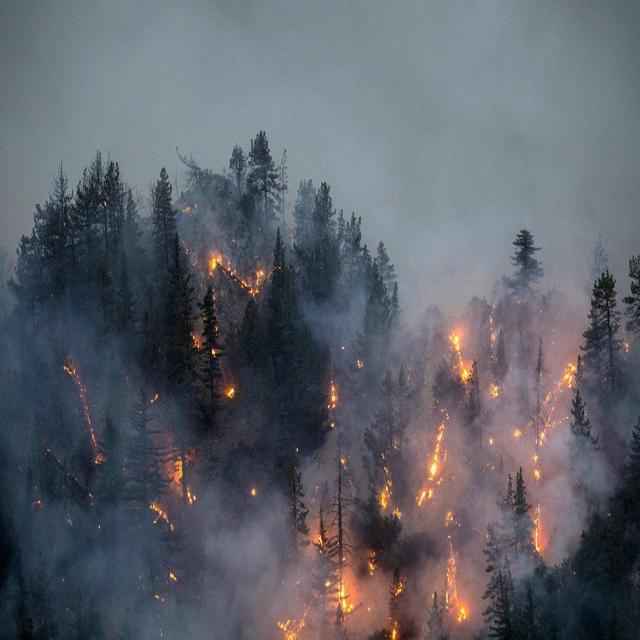Fire: (433, 298, 500, 412), (142, 426, 212, 534), (399, 410, 462, 528), (191, 229, 277, 315)
